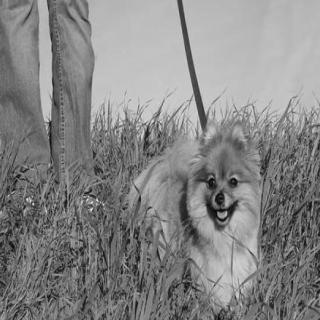dog: (182, 131, 267, 247)
nose: (213, 190, 226, 207)
